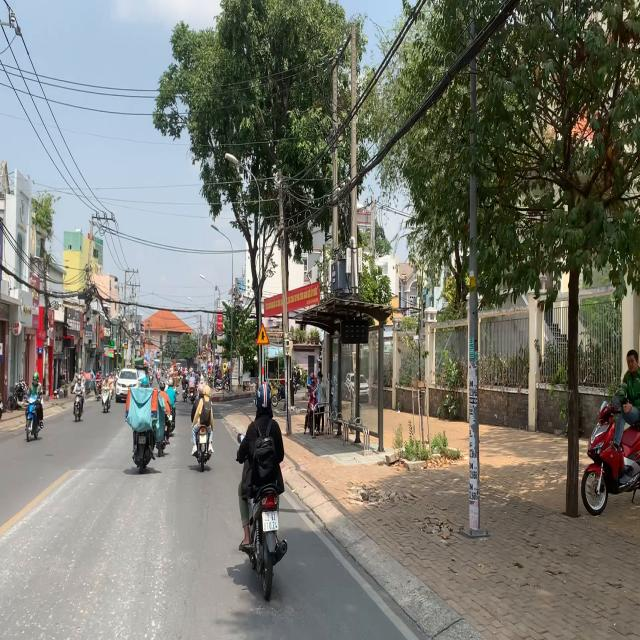Giao voi duong khong uu tien: (256, 322, 270, 347)
